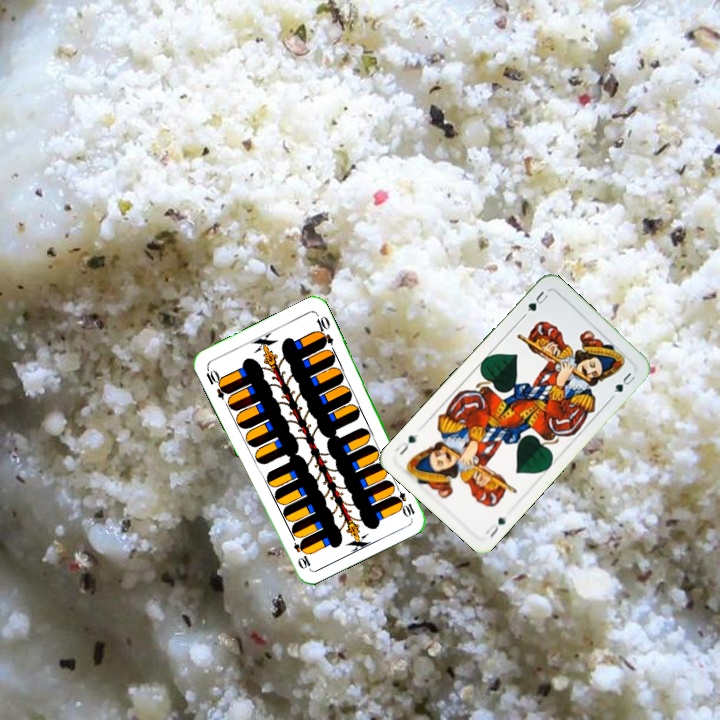E10: (201, 363, 231, 402), (390, 481, 418, 518)
GU: (519, 287, 551, 319), (482, 512, 510, 540)
